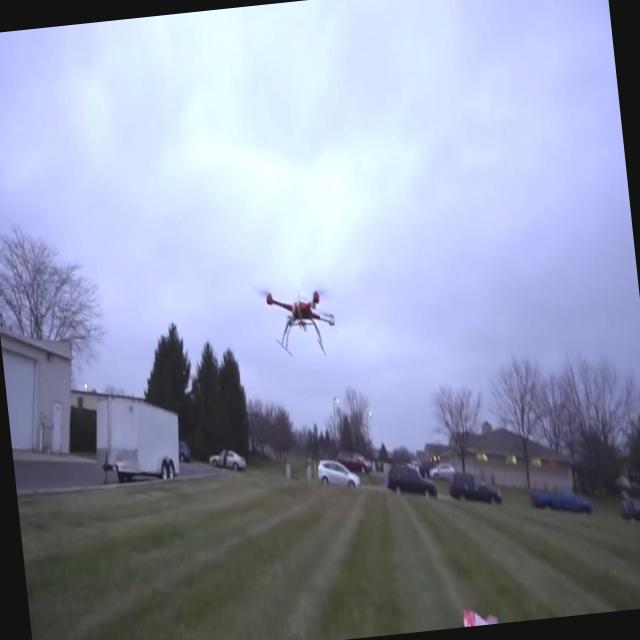drone: (258, 278, 350, 368)
